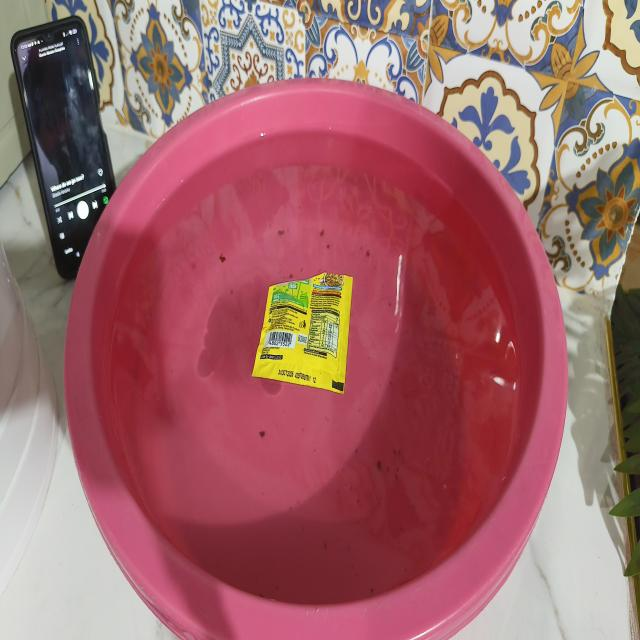Plastic Wrapper: (228, 228, 370, 430)
